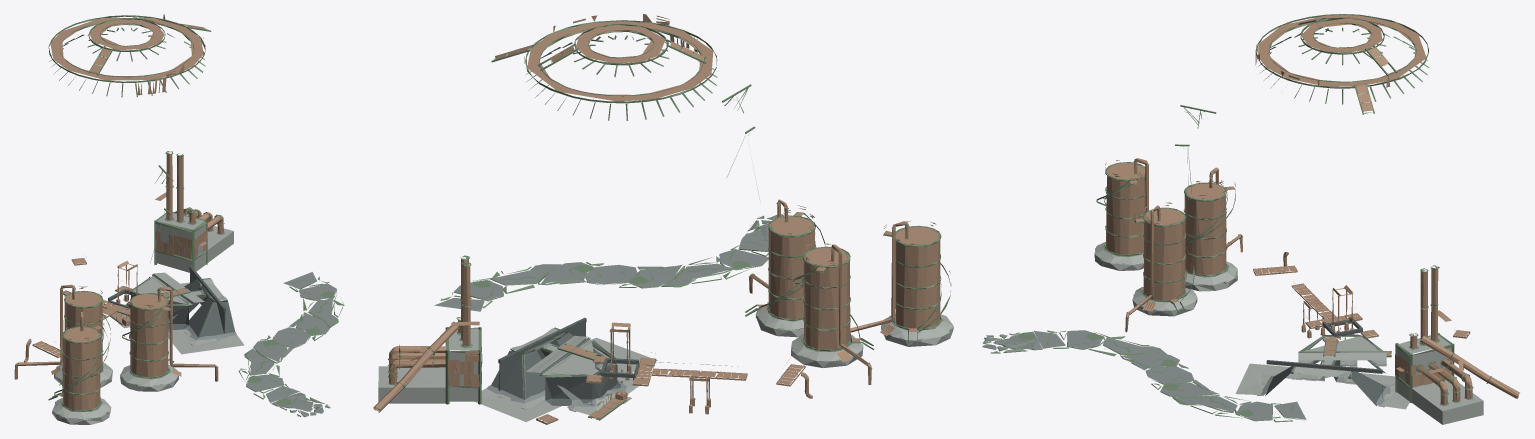
The model's file is sphere_tank-map.glb.
The picture shows the model from 3 angles, left to right: view 1: azimuth 30°, elevation 25°; view 2: azimuth 150°, elevation 25°; view 3: azimuth 270°, elevation 25°; orthographic projection. The views are drawn at different scales.
Visible parts, largest first — view 1: spheretank_walkway_f_LOD0, pumping_station_LOD0, road_nopavement_9x15_end_LOD0, sewer_drainwall_600_bridge_LOD0; view 2: spheretank_walkway_f_LOD0, pumping_station_LOD0, road_nopavement_9x15_end_LOD0, sewer_drainwall_600_bridge_LOD0; view 3: spheretank_walkway_f_LOD0, pumping_station_LOD0, road_nopavement_9x15_end_LOD0, sewer_drainwall_600_bridge_LOD0.
Part boxes in pixels (x1=…): spheretank_walkway_f_LOD0: x1=14, y1=14, x2=344, y2=420; pumping_station_LOD0: x1=52, y1=213, x2=244, y2=424; road_nopavement_9x15_end_LOD0: x1=152, y1=272, x2=337, y2=416; sewer_drainwall_600_bridge_LOD0: x1=108, y1=265, x2=235, y2=337; spheretank_walkway_f_LOD0: x1=373, y1=14, x2=952, y2=424; pumping_station_LOD0: x1=378, y1=305, x2=953, y2=421; road_nopavement_9x15_end_LOD0: x1=434, y1=214, x2=783, y2=410; sewer_drainwall_600_bridge_LOD0: x1=491, y1=317, x2=639, y2=406; spheretank_walkway_f_LOD0: x1=982, y1=14, x2=1519, y2=422; pumping_station_LOD0: x1=1094, y1=242, x2=1483, y2=424; road_nopavement_9x15_end_LOD0: x1=982, y1=330, x2=1390, y2=420; sewer_drainwall_600_bridge_LOD0: x1=1265, y1=317, x2=1386, y2=405.
Size of the model in its own units: 88.41 by 73.48 by 110.
